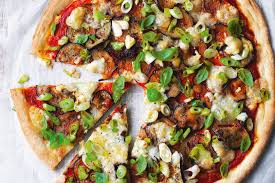pizza: (17, 80, 135, 180)
